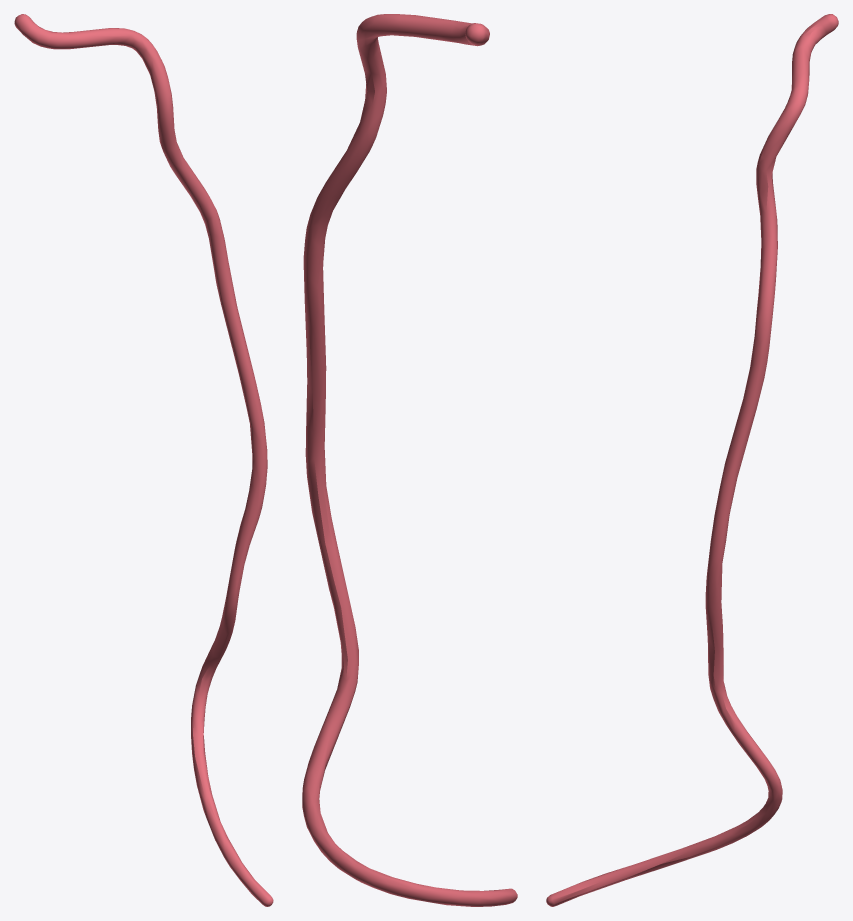
Rendered from fma4756_fj5016.glb.
3 renders of one model, left to right at view 1: azimuth 30°, elevation 25°; view 2: azimuth 150°, elevation 25°; view 3: azimuth 270°, elevation 25°, orthographic. The views are drawn at different scales.
Parts seen in each view (by area): view 1: FMA4756_FJ5016; view 2: FMA4756_FJ5016; view 3: FMA4756_FJ5016.
Part boxes in pixels (box(x1,y1,x2,y2)): FMA4756_FJ5016: box(14, 14, 273, 906); FMA4756_FJ5016: box(302, 14, 517, 906); FMA4756_FJ5016: box(546, 14, 838, 906).
Size of the model in its own units: 0.0354 by 0.1417 by 0.0448.
